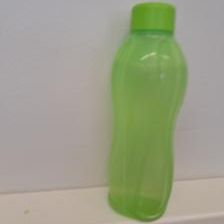bottle: (101, 1, 187, 217)
